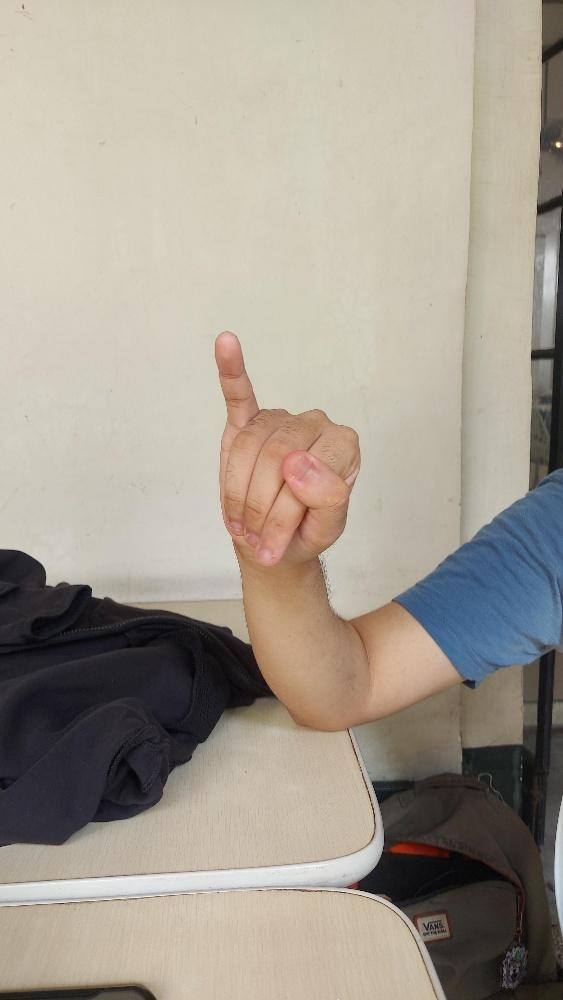i: (213, 330, 360, 566)
